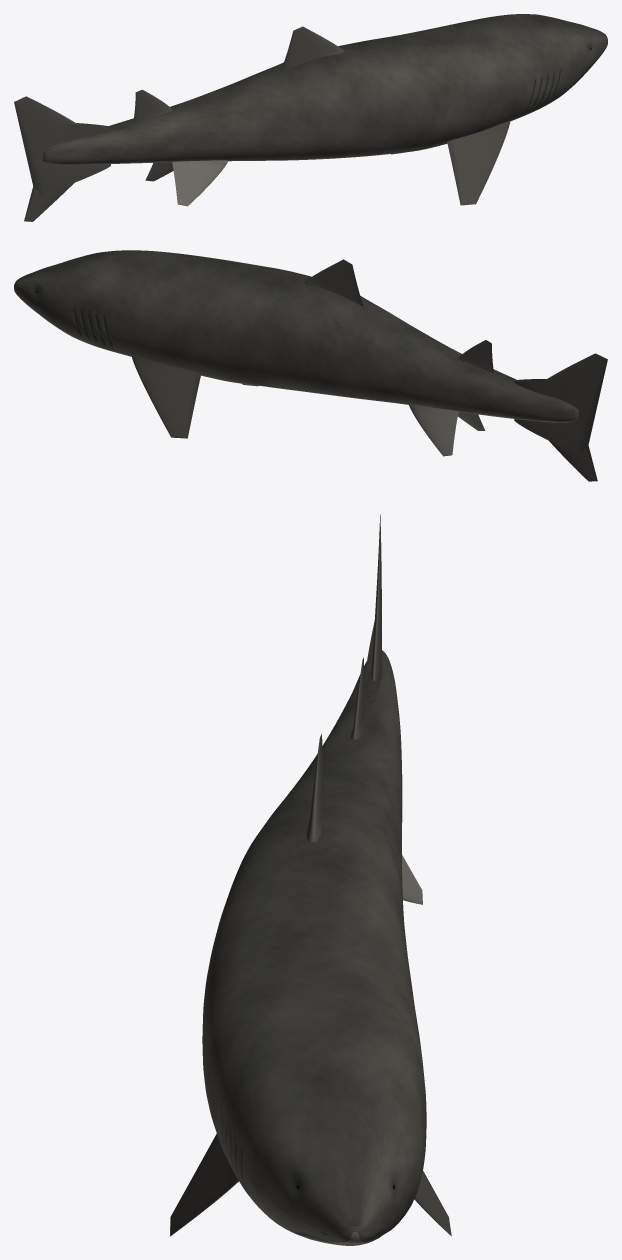
File: greenland_shark.glb
3 views of the same model, one above another, from view 1: azimuth 30°, elevation 25°; view 2: azimuth 150°, elevation 25°; view 3: azimuth 270°, elevation 25° (orthographic). The views are drawn at different scales.
Visible parts, largest first — view 1: GreenlandShark_Body, GreenlandShark_Fins; view 2: GreenlandShark_Body, GreenlandShark_Fins; view 3: GreenlandShark_Body, GreenlandShark_Fins.
Part boxes in pixels (left/top/right/bottom): GreenlandShark_Body: left=43, top=14, right=607, bottom=165; GreenlandShark_Fins: left=14, top=26, right=510, bottom=221; GreenlandShark_Body: left=14, top=250, right=578, bottom=422; GreenlandShark_Fins: left=131, top=259, right=607, bottom=481; GreenlandShark_Body: left=202, top=650, right=426, bottom=1245; GreenlandShark_Fins: left=170, top=514, right=451, bottom=1236.
Bounding box in the file's own units: 4 × 1.2 × 0.8324.
Materials: 3 (1 with a texture image).
